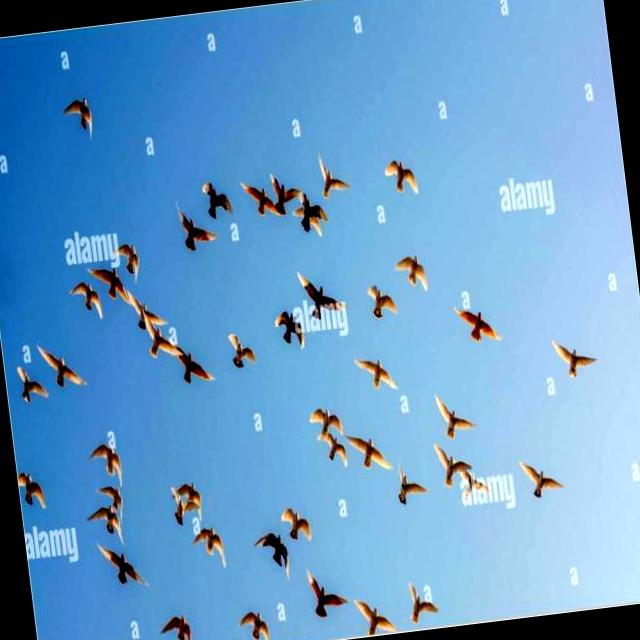bird: (96, 540, 152, 594), (518, 449, 568, 507), (38, 338, 88, 392), (304, 566, 351, 623), (345, 422, 392, 479), (297, 266, 346, 320), (433, 388, 484, 439), (552, 333, 601, 383), (176, 342, 220, 394), (170, 199, 210, 252), (381, 150, 421, 202), (255, 526, 292, 582), (189, 525, 234, 571), (456, 304, 502, 348), (391, 250, 434, 295), (86, 441, 129, 486), (142, 325, 182, 372), (10, 363, 48, 412), (84, 502, 126, 546), (62, 280, 106, 322), (60, 96, 100, 142), (351, 354, 396, 394), (229, 602, 276, 640), (356, 594, 396, 638), (400, 580, 438, 626), (270, 305, 306, 353), (364, 278, 402, 322), (130, 287, 168, 331), (92, 261, 130, 305), (199, 174, 234, 220), (240, 175, 274, 222), (224, 328, 260, 372), (394, 461, 429, 506), (318, 151, 350, 200), (278, 498, 315, 540), (16, 467, 47, 513), (316, 430, 349, 472), (268, 167, 296, 215), (113, 236, 144, 278), (436, 443, 464, 486), (159, 608, 196, 640), (308, 402, 342, 434), (98, 482, 132, 506), (292, 208, 320, 235), (166, 497, 190, 527), (297, 187, 324, 213), (181, 480, 202, 504)
